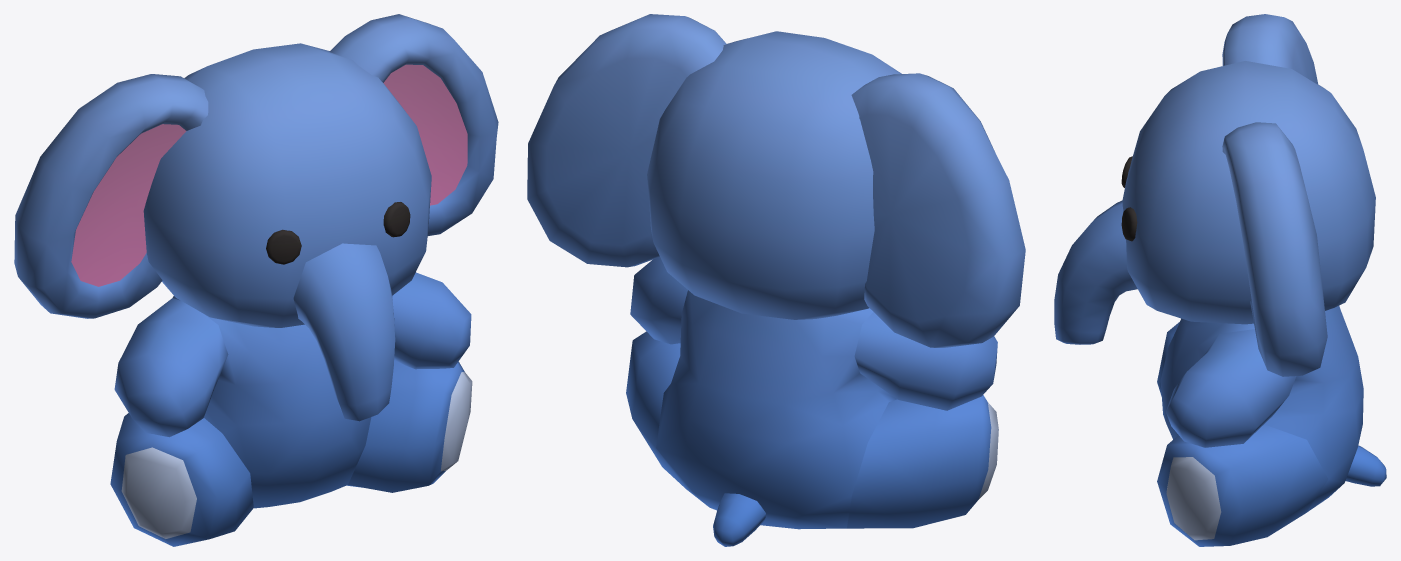
File: Elephant_01.fbx
3 renders of one model, left to right at view 1: azimuth 30°, elevation 25°; view 2: azimuth 150°, elevation 25°; view 3: azimuth 270°, elevation 25°, orthographic. The views are drawn at different scales.
Parts seen in each view (by area): view 1: Elephant_01; view 2: Elephant_01; view 3: Elephant_01.
Boxes of the visible parts, <box> form: Elephant_01: <box>14,14,498,546</box>; Elephant_01: <box>527,14,1025,546</box>; Elephant_01: <box>1054,14,1386,546</box>.
Size of the model in its own units: 44.79 by 29.33 by 40.82.
